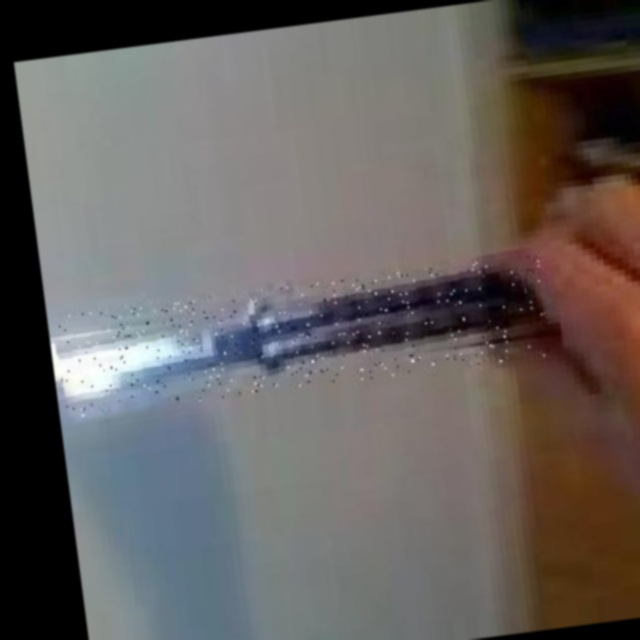Sharp-Object: (53, 253, 551, 418)
